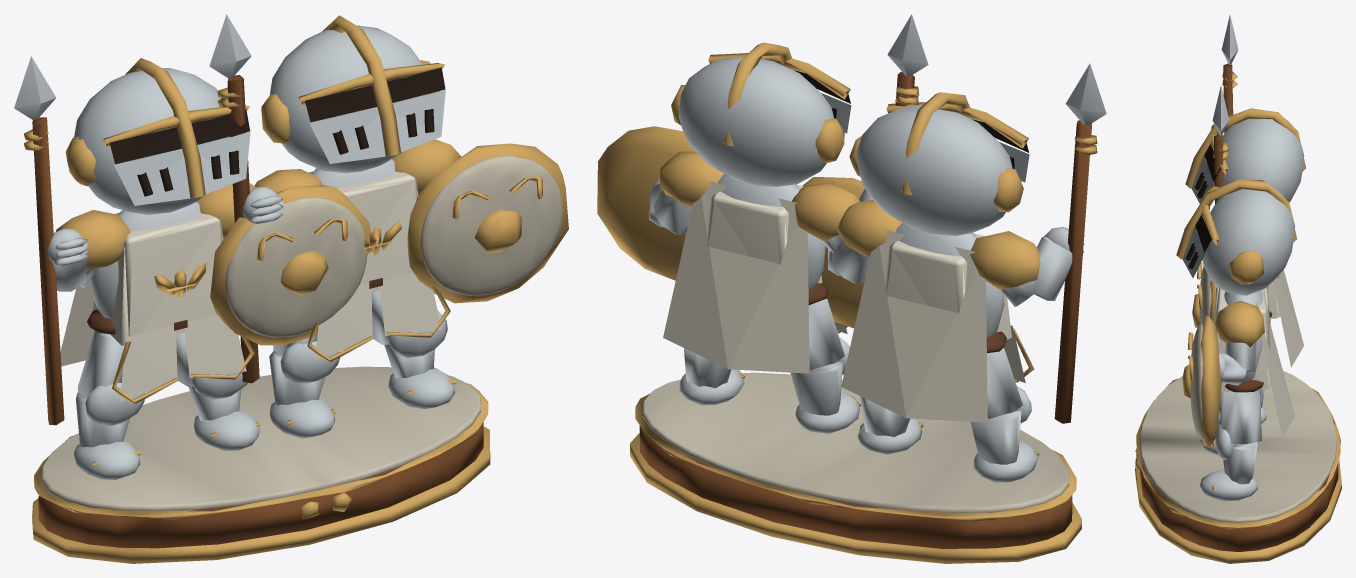
The model's file is default_knight_l2.glb.
The picture shows the model from 3 angles, left to right: view 1: azimuth 30°, elevation 25°; view 2: azimuth 150°, elevation 25°; view 3: azimuth 270°, elevation 25°; orthographic projection. The views are drawn at different scales.
Visible parts, largest first — view 1: WoodBody, FixedDetails, BrassTrim; view 2: FixedDetails, WoodBody, BrassTrim; view 3: FixedDetails, WoodBody, BrassTrim.
Part boxes in pixels (left/top/right/bottom): WoodBody: left=41, top=156, right=562, bottom=511; FixedDetails: left=14, top=14, right=483, bottom=548; BrassTrim: left=24, top=15, right=568, bottom=563; FixedDetails: left=639, top=14, right=1106, bottom=548; WoodBody: left=642, top=181, right=1069, bottom=512; BrassTrim: left=597, top=42, right=1097, bottom=563; FixedDetails: left=1139, top=14, right=1338, bottom=551; WoodBody: left=1140, top=266, right=1336, bottom=522; BrassTrim: left=1135, top=71, right=1341, bottom=563.
Bounding box in the file's own units: 0.5283 × 0.4653 × 0.2297.
